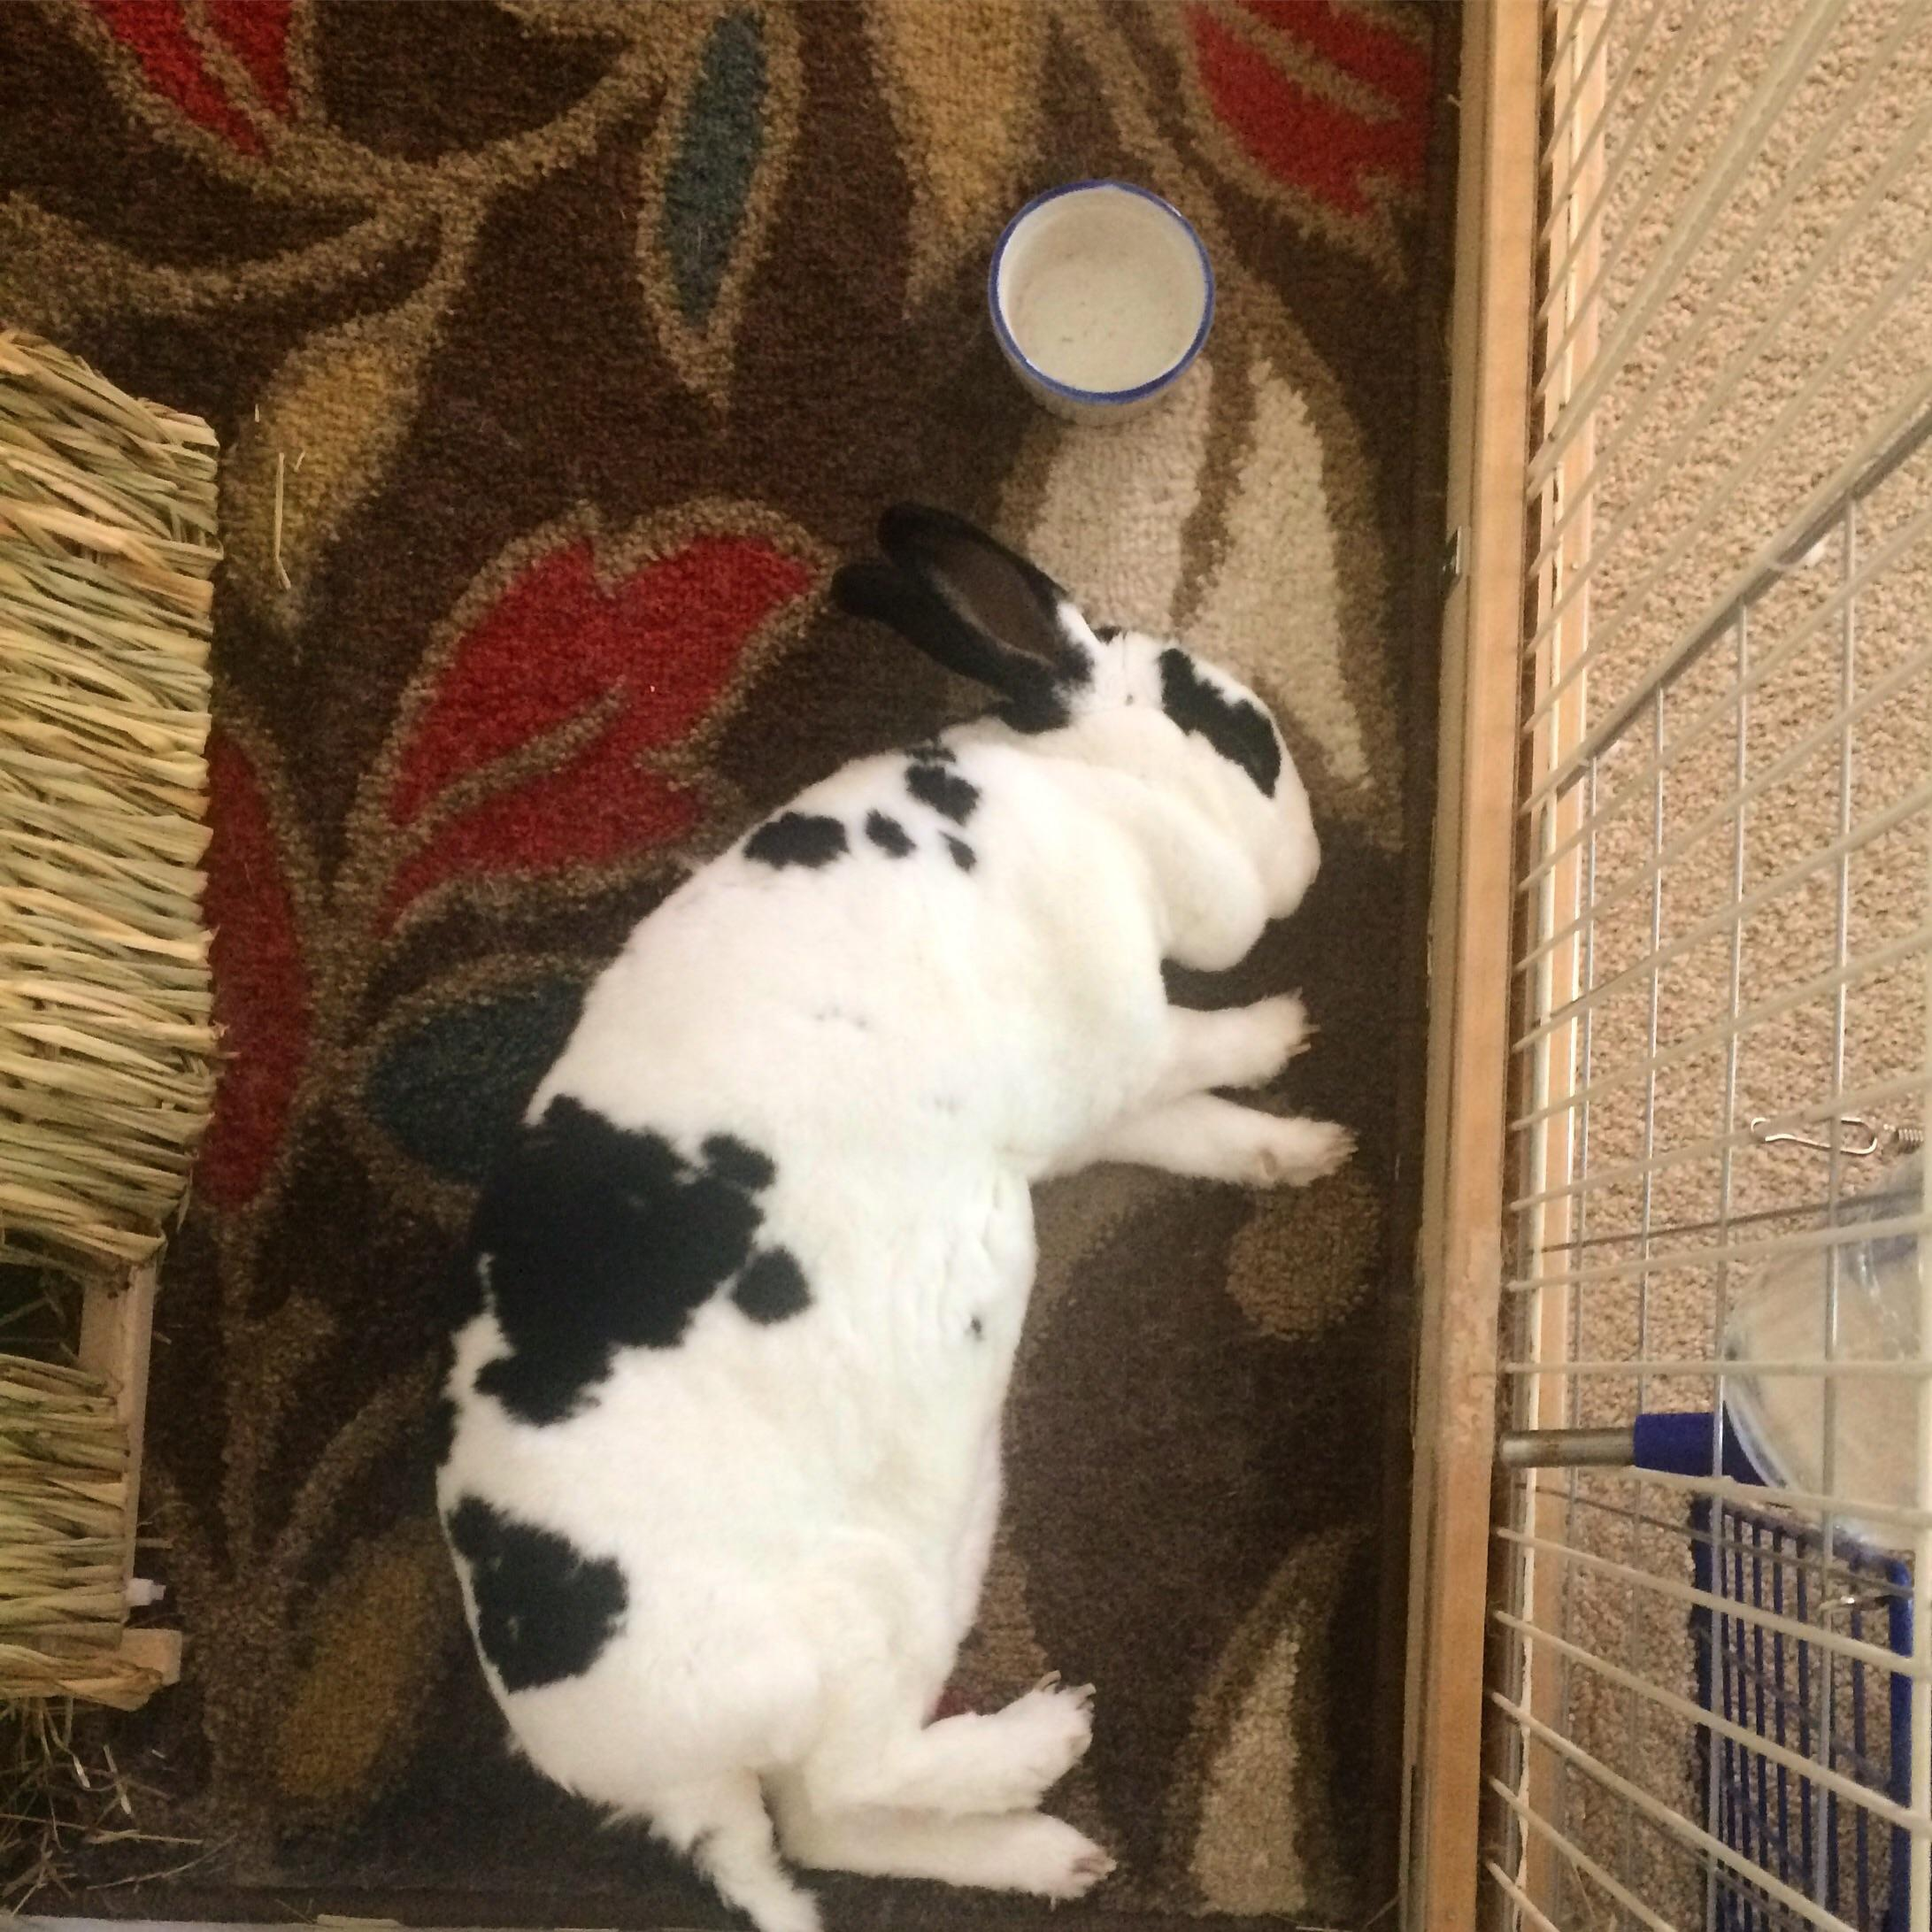bunny: (391, 479, 1385, 1932)
